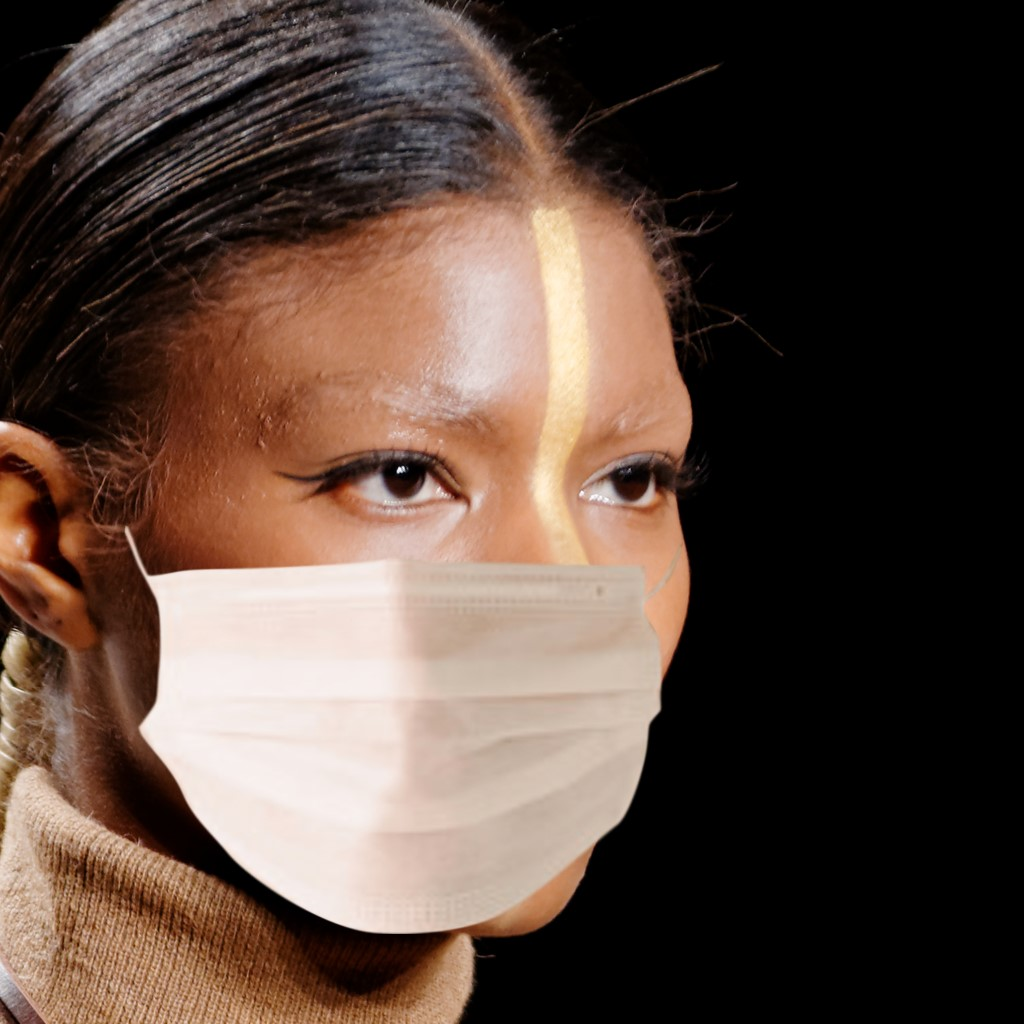con_mascara: (53, 110, 699, 962)
